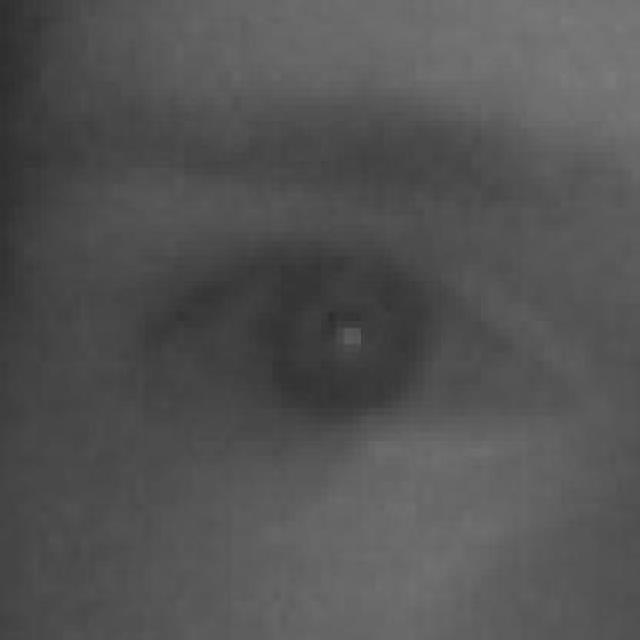awake: (164, 248, 562, 444)
